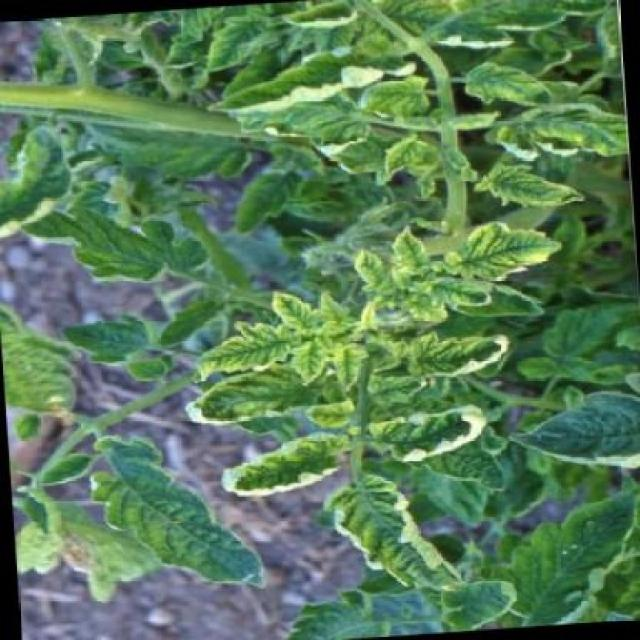Healthy Leaf: (323, 466, 468, 609), (213, 423, 352, 502), (435, 216, 567, 289), (185, 321, 304, 385), (371, 407, 492, 465), (476, 156, 590, 213), (402, 328, 513, 380), (352, 70, 438, 124), (279, 338, 333, 388)
